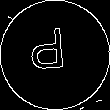P_S: (35, 28, 75, 82)
